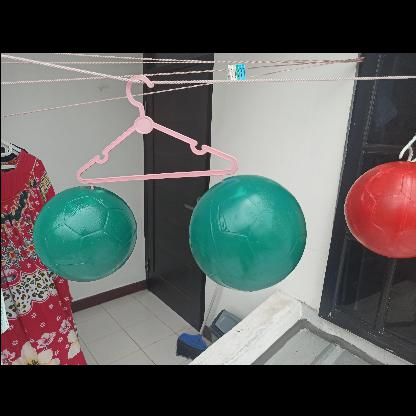green_ball: (187, 171, 307, 291), (34, 179, 138, 283)
